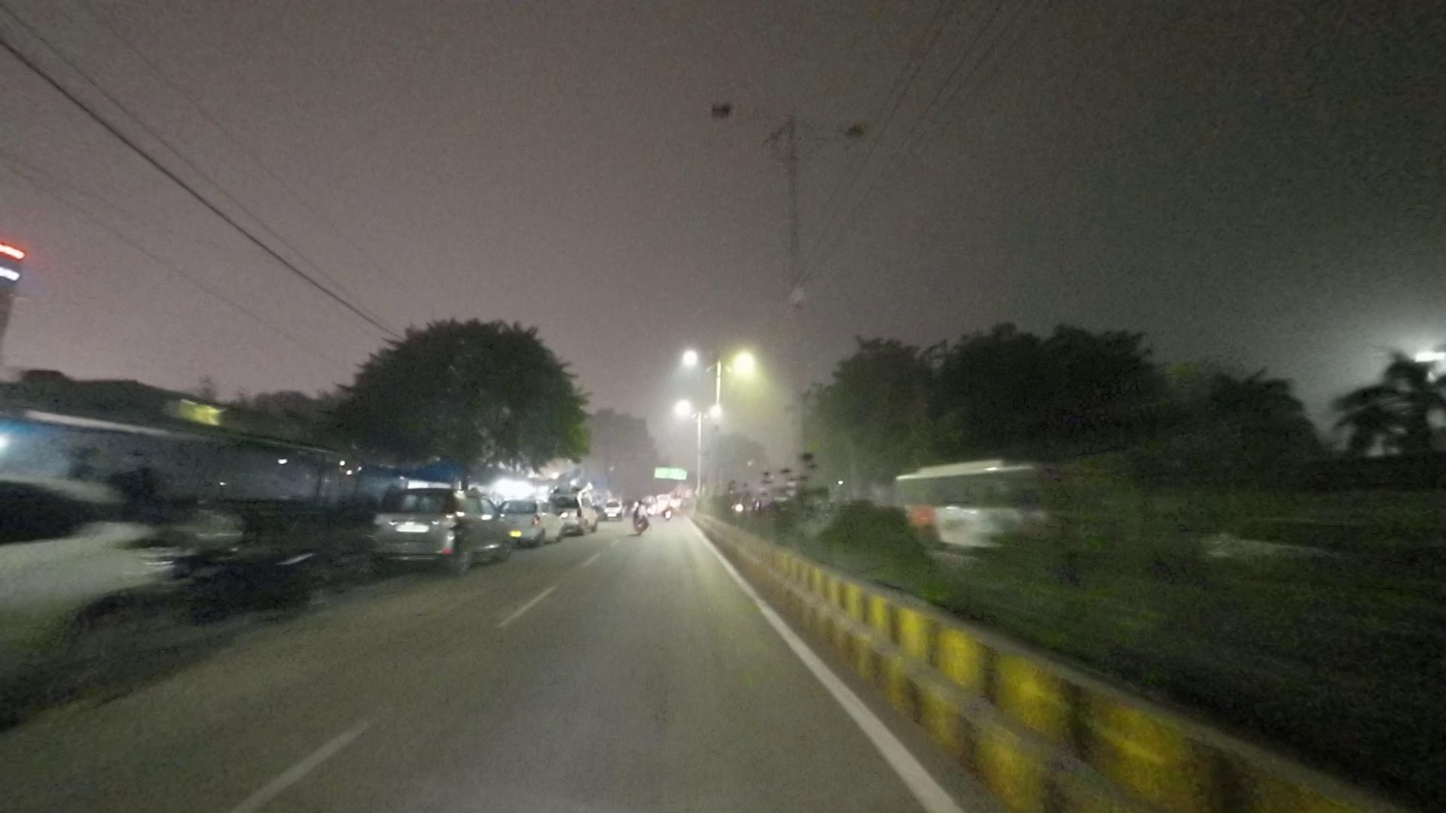streetlight: (705, 98, 790, 124), (797, 114, 869, 141)
